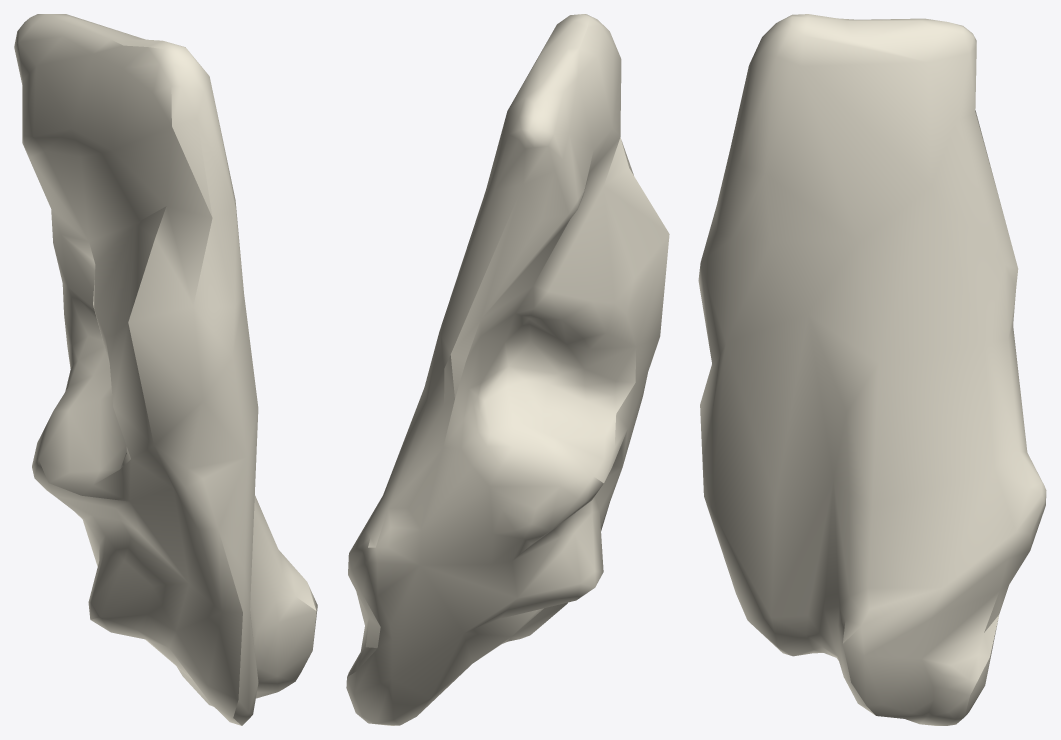
File: fma53646_fj3265.glb
3 views of the same model, side by side, from view 1: azimuth 30°, elevation 25°; view 2: azimuth 150°, elevation 25°; view 3: azimuth 270°, elevation 25° (orthographic). The views are drawn at different scales.
Visible parts, largest first — view 1: FMA53646_FJ3265; view 2: FMA53646_FJ3265; view 3: FMA53646_FJ3265.
Boxes of the visible parts, x1=… form: FMA53646_FJ3265: x1=14, y1=14, x2=317, y2=725; FMA53646_FJ3265: x1=346, y1=14, x2=669, y2=725; FMA53646_FJ3265: x1=698, y1=14, x2=1046, y2=725.
Size of the model in its own units: 0.0106 by 0.029 by 0.014.
